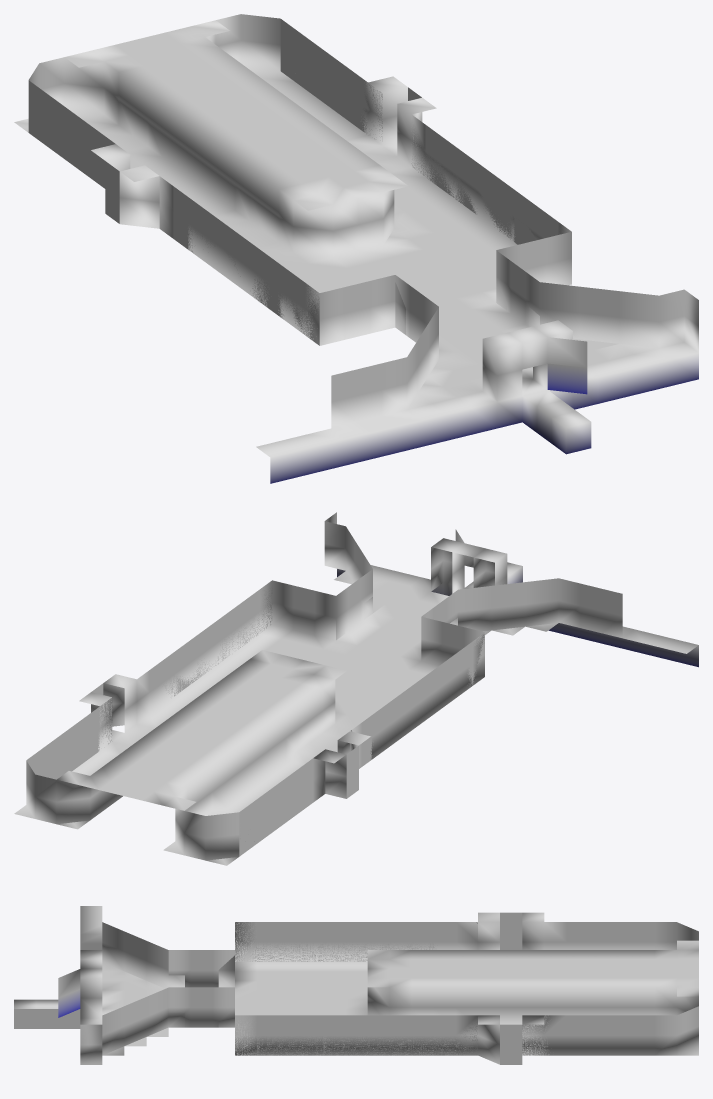
The model's file is oddcare3.obj.
3 views of the same model, one above another, from view 1: azimuth 30°, elevation 25°; view 2: azimuth 150°, elevation 25°; view 3: azimuth 270°, elevation 25° (orthographic). The views are drawn at different scales.
Parts seen in each view (by area): view 1: Plane.003; view 2: Plane.003; view 3: Plane.003.
Part boxes in pixels (x1,y1,x2,y2): Plane.003: (14, 14, 698, 483); Plane.003: (14, 512, 698, 865); Plane.003: (14, 906, 698, 1064).
Bounding box in the file's own units: 17 × 3 × 31.
